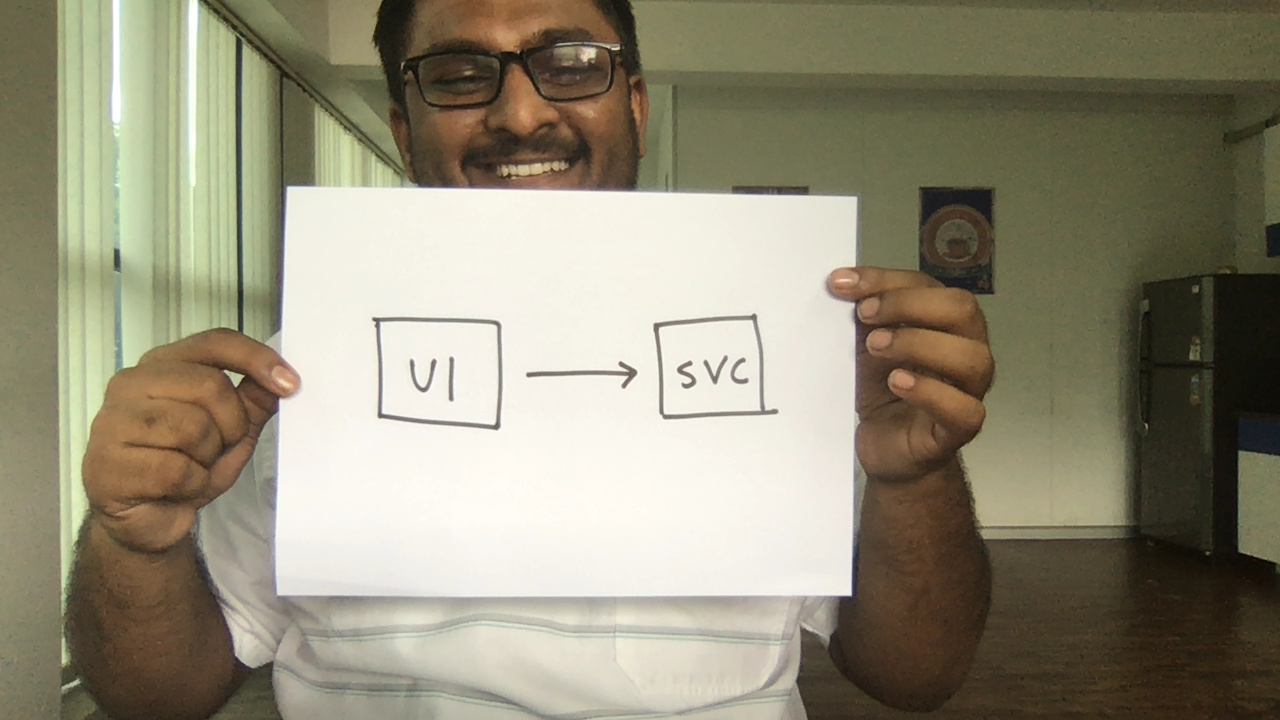arrow: (519, 345, 650, 413)
ec2: (648, 299, 785, 442)
ui: (359, 297, 519, 446)
